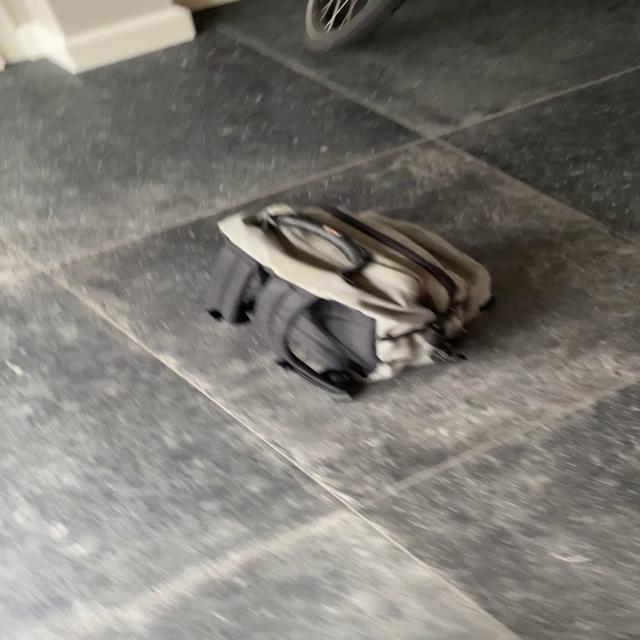backpack: (195, 198, 506, 380)
